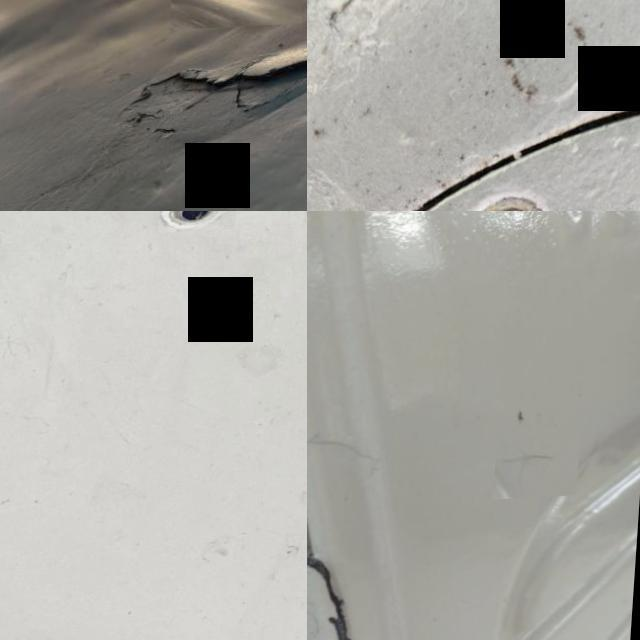Crack: (111, 28, 307, 138), (307, 402, 413, 501), (498, 430, 585, 505)
Dent: (172, 0, 307, 33)
Missing_Fastener: (430, 158, 598, 211), (160, 211, 239, 236)
